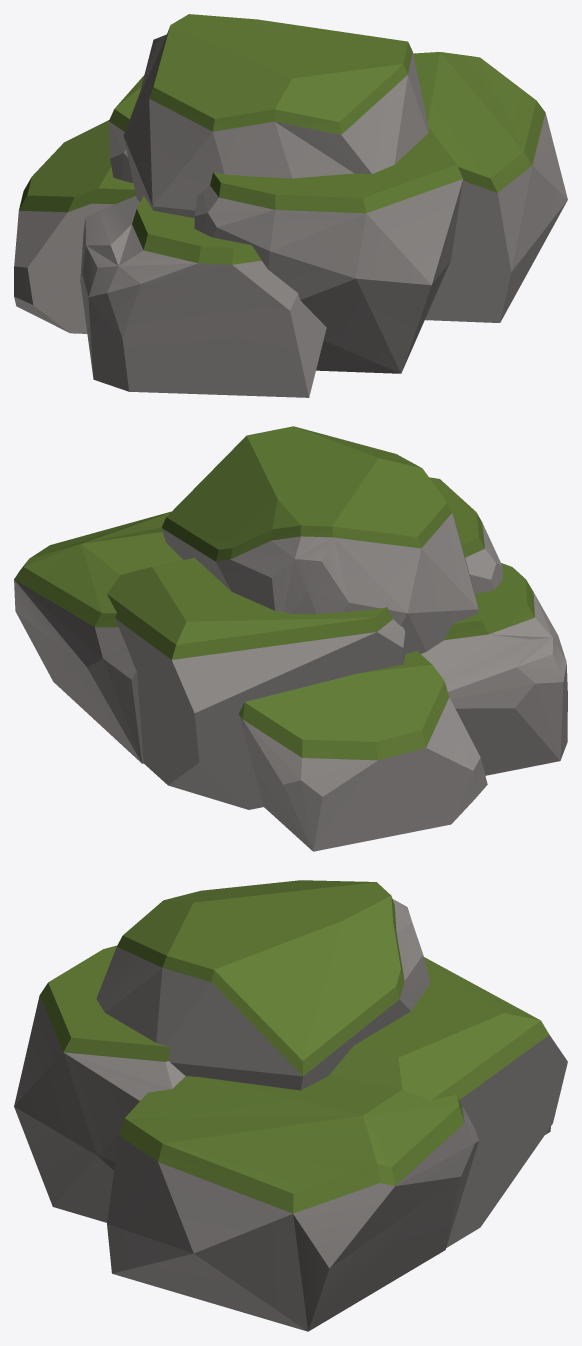
Rendered from RockStack_3.fbx.
3 renders of one model, top to bottom at view 1: azimuth 30°, elevation 25°; view 2: azimuth 150°, elevation 25°; view 3: azimuth 270°, elevation 25°, orthographic. The views are drawn at different scales.
Parts seen in each view (by area): view 1: RockStack_3; view 2: RockStack_3; view 3: RockStack_3.
Part boxes in pixels (box(x1,y1,x2,y2)): RockStack_3: box(14, 14, 567, 397); RockStack_3: box(14, 426, 567, 851); RockStack_3: box(14, 880, 567, 1331).
Size of the model in its own units: 155 by 75.85 by 135.
